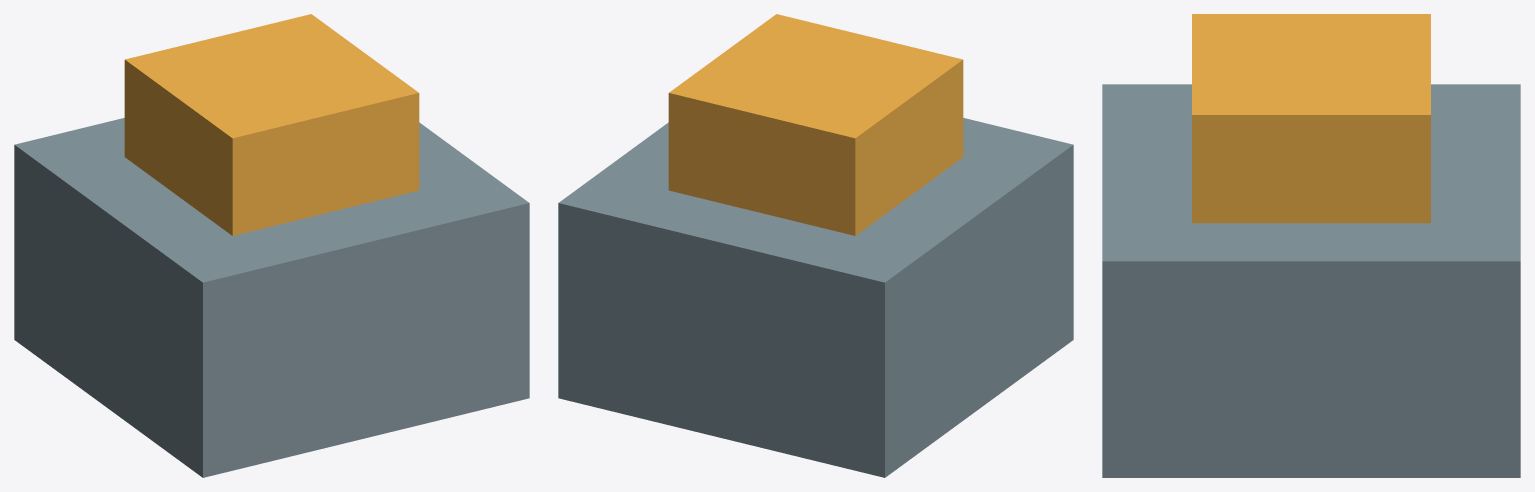
The model's file is Hab_Stack_Connector.glb.
The picture shows the model from 3 angles, left to right: view 1: azimuth 30°, elevation 25°; view 2: azimuth 150°, elevation 25°; view 3: azimuth 270°, elevation 25°; orthographic projection. The views are drawn at different scales.
Visible parts, largest first — view 1: Hab_Stack_Connector; view 2: Hab_Stack_Connector; view 3: Hab_Stack_Connector.
Part boxes in pixels (box(x1,y1,x2,y2)): Hab_Stack_Connector: box(14, 14, 529, 477); Hab_Stack_Connector: box(558, 14, 1073, 477); Hab_Stack_Connector: box(1102, 14, 1520, 477).
Bounding box in the file's own units: 0.42 × 0.36 × 0.42.
